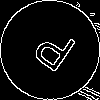P: (25, 25, 79, 82)
